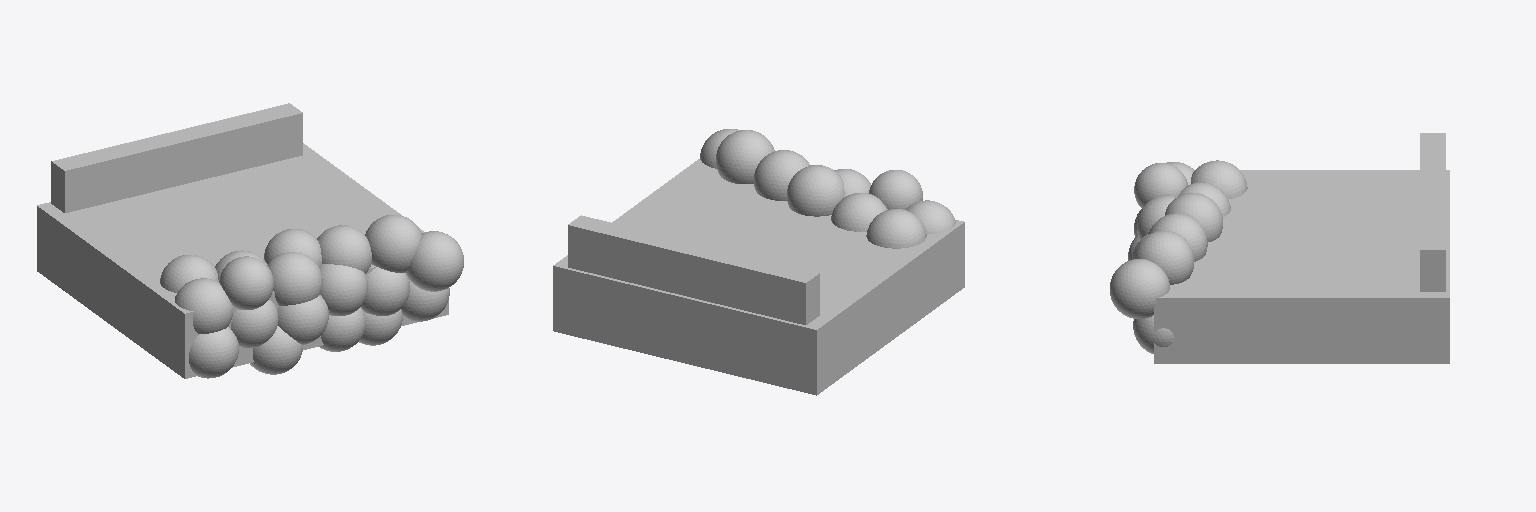
Rendered from fixedplatform1.obj.
3 renders of one model, left to right at view 1: azimuth 30°, elevation 25°; view 2: azimuth 150°, elevation 25°; view 3: azimuth 270°, elevation 25°, orthographic.
Parts seen in each view (by area): view 1: platform2; view 2: platform2; view 3: platform2.
Boxes of the visible parts, x1,y1,x2,y2 form: platform2: [37, 103, 463, 378]; platform2: [553, 129, 964, 395]; platform2: [1110, 133, 1449, 363].
Bounding box in the file's own units: 2.03 × 0.9158 × 2.23.